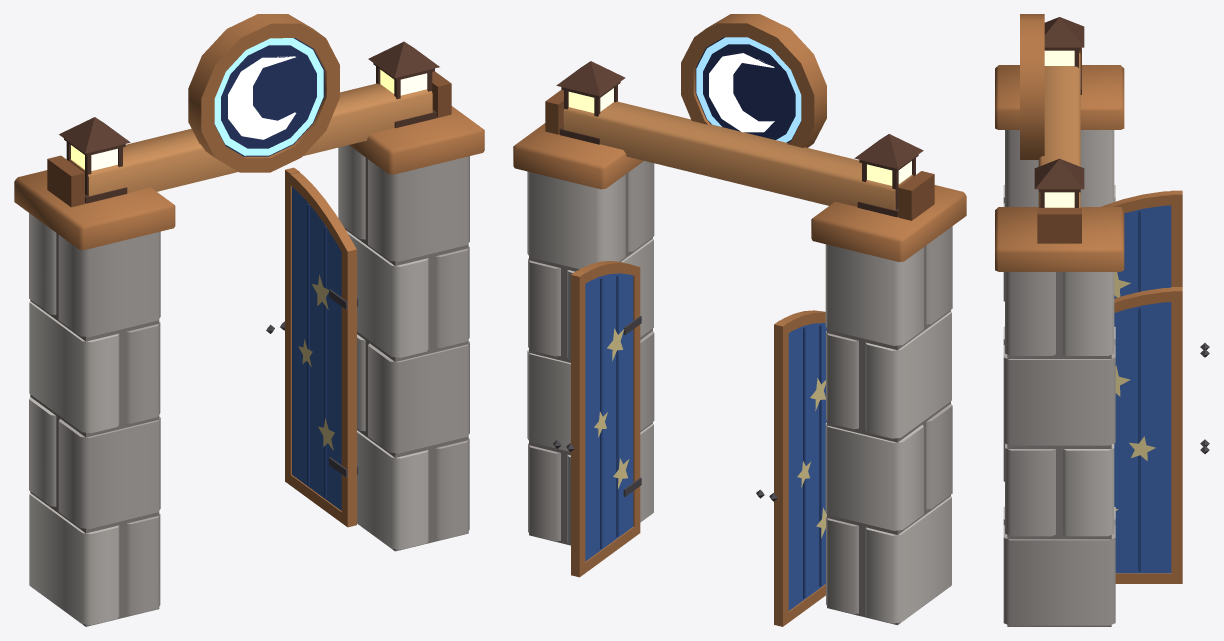
File: moon_door_open.glb
The picture shows the model from 3 angles, left to right: view 1: azimuth 30°, elevation 25°; view 2: azimuth 150°, elevation 25°; view 3: azimuth 270°, elevation 25°; orthographic projection. The views are drawn at different scales.
Parts seen in each view (by area): view 1: moon_door_open, leaf_r; view 2: moon_door_open, leaf_r, leaf_l; view 3: moon_door_open, leaf_r, leaf_l.
Boxes of the visible parts, x1,y1,x2,y2 form: moon_door_open: (14, 14, 484, 626); leaf_r: (266, 167, 358, 527); moon_door_open: (513, 14, 966, 625); leaf_r: (553, 261, 641, 577); leaf_l: (756, 310, 826, 626); moon_door_open: (995, 14, 1124, 626); leaf_r: (1114, 287, 1209, 583); leaf_l: (1101, 190, 1209, 357).
Bounding box in the file's own units: 3.54 × 4.6 × 1.73.
Materials: 4 (4 with a texture image).
